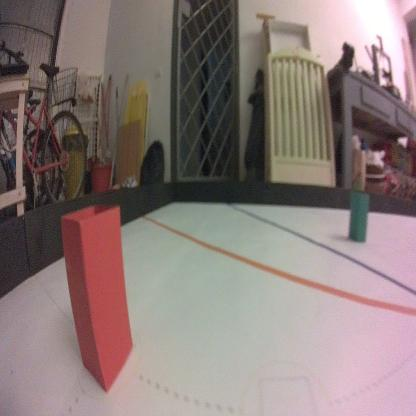green: (346, 189, 370, 244)
red: (59, 197, 136, 395)
